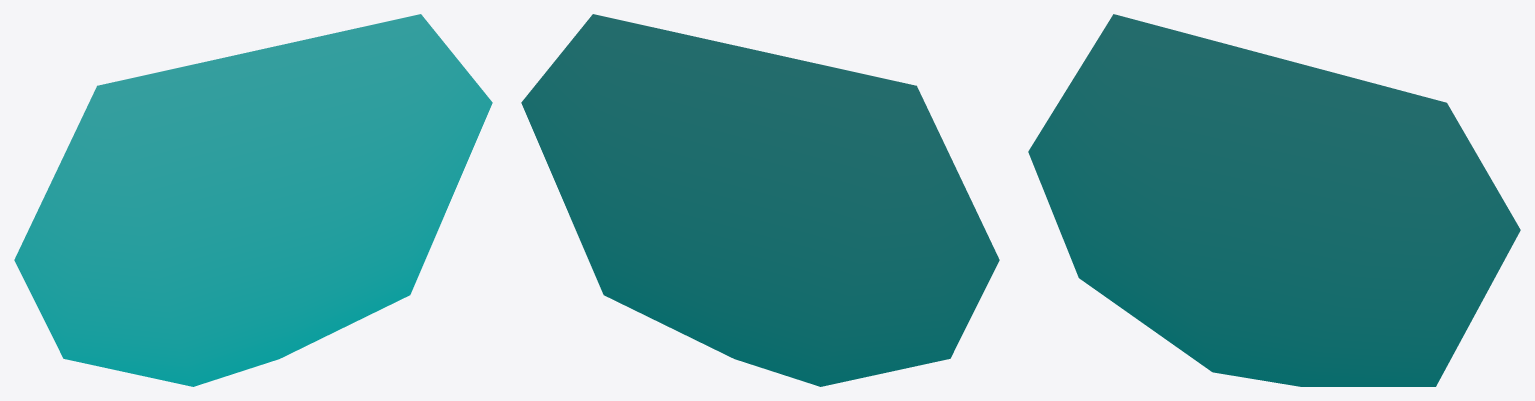
The model's file is Flat_Leaf_Parsley_umkkeiaia_Low_umkkeiaia_VarC_LOD2.fbx.
The picture shows the model from 3 angles, left to right: view 1: azimuth 30°, elevation 25°; view 2: azimuth 150°, elevation 25°; view 3: azimuth 330°, elevation 25°; orthographic projection. The views are drawn at different scales.
Visible parts, largest first — view 1: _fs5l_VarC_LOD5; view 2: _fs5l_VarC_LOD5; view 3: _fs5l_VarC_LOD5.
Boxes of the visible parts, x1=… form: _fs5l_VarC_LOD5: x1=14, y1=14, x2=492, y2=386; _fs5l_VarC_LOD5: x1=521, y1=14, x2=999, y2=386; _fs5l_VarC_LOD5: x1=1028, y1=14, x2=1520, y2=386.
Bounding box in the file's own units: 42.47 × 27.53 × 0.
